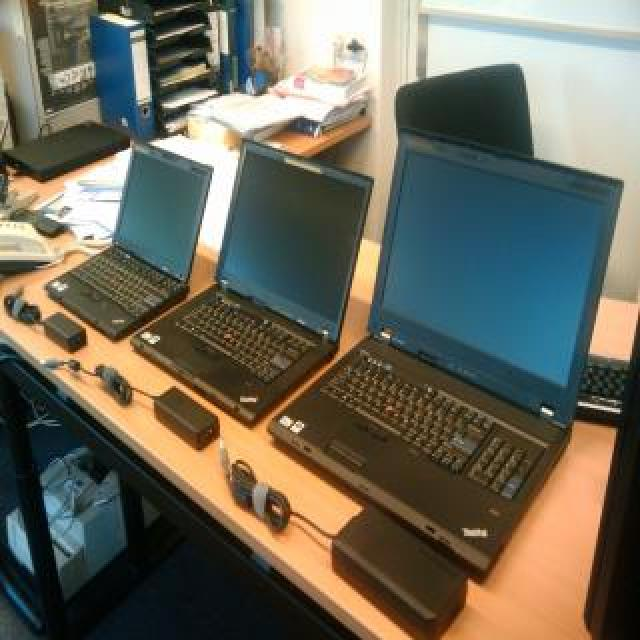laptop_computer: (360, 145, 632, 565), (166, 137, 382, 408), (63, 127, 217, 345)
